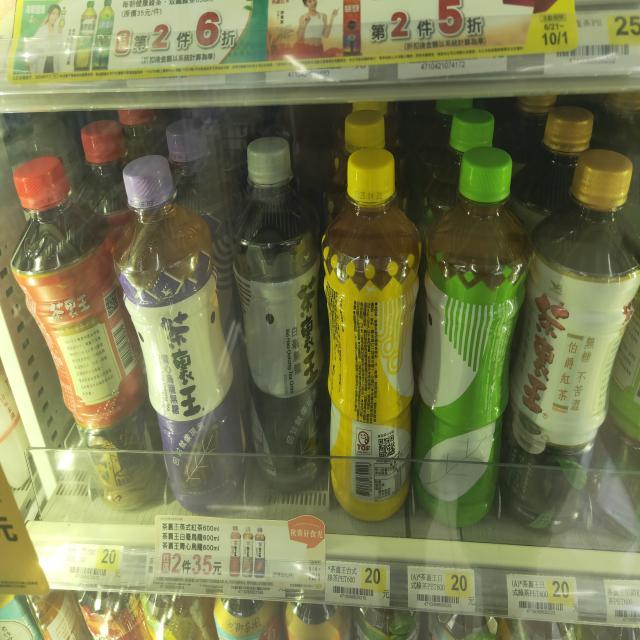ChaLiWong_BritainBlackTea: (2, 150, 182, 503)
ChaLiWong_TsingXinOolong: (110, 150, 265, 504)
ChaLiWong_WhiteOolong: (226, 128, 330, 479)
